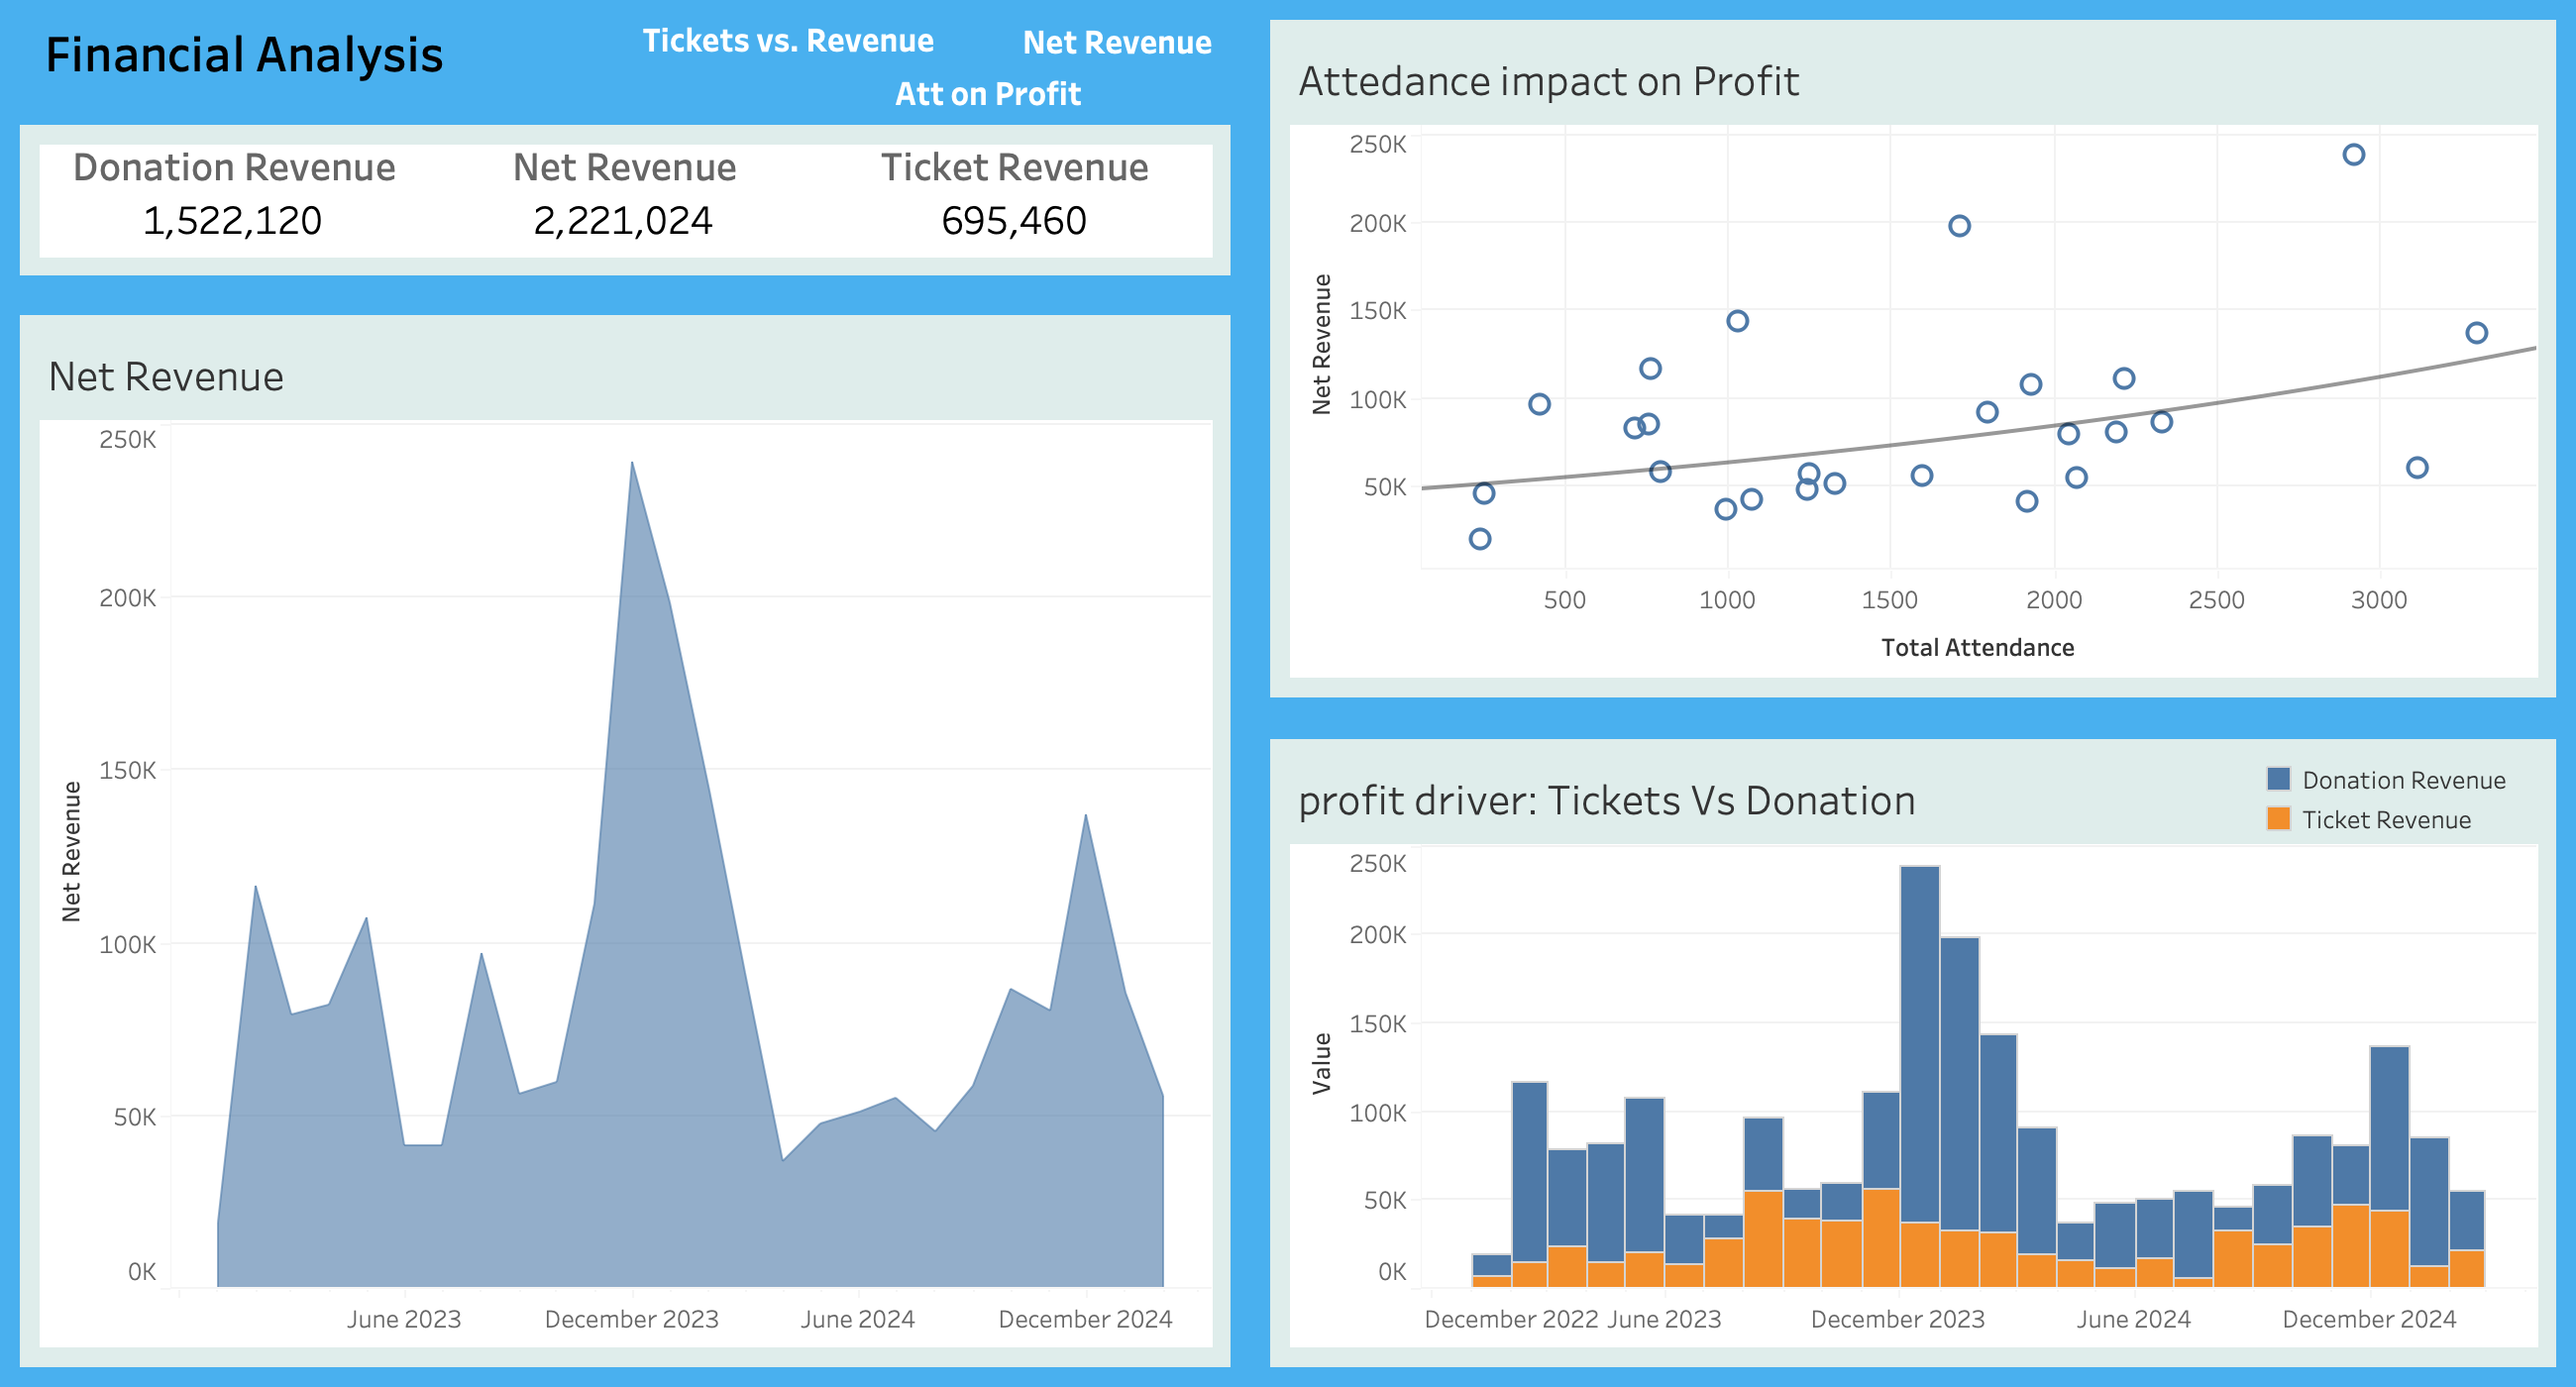

This screenshot's page, from the dashboard's own definition file:
{"tool":"tableau","page":{"name":"3_financial_health","canvas":[1300,700],"ordinal":2},"visuals":[{"type":"text","box":[0,0,631,53]},{"type":"worksheet","title":"Net Revenue and Attendance","mark":"Automatic","rows":["net_revenue"],"cols":["total_attendance"],"box":[631,0,669,362.5]},{"type":"dashboard-object","box":[303,4,190,32]},{"type":"dashboard-object","box":[489,4,150,34]},{"type":"dashboard-object","box":[419,33,160,27]},{"type":"worksheet","title":"KPIs finance","mark":"Automatic","box":[0,53,631,96]},{"type":"text","box":[720,62,441,89]},{"type":"text","box":[217,144,383,79]},{"type":"worksheet","title":"Net Revenue","mark":"Area","rows":["net_revenue"],"cols":["month_key"],"box":[0,149,631,551]},{"type":"worksheet","title":"profit driver: Tickets Vs Donation","mark":"Bar","cols":["month_key"],"box":[631,362.5,669,337.5]},{"type":"legend","title":"profit driver: Tickets Vs Donation","param":"[federated.1nh3dcc1yoborf1btznh20zu206y].[:Measure Names]","box":[1140,383,140,40]},{"type":"text","box":[506,478,441,62]}]}

Visuals, with their boxes in screenshot pixels (x1, y1, x2, y2), scaled from the page's 1300x700 canvas onto the 2576x1387 screenshot:
text: x1=0, y1=0, x2=1250, y2=105
"Net Revenue and Attendance" worksheet: x1=1250, y1=0, x2=2575, y2=718
dashboard-object: x1=600, y1=8, x2=977, y2=71
dashboard-object: x1=969, y1=8, x2=1266, y2=75
dashboard-object: x1=830, y1=65, x2=1147, y2=119
"KPIs finance" worksheet: x1=0, y1=105, x2=1250, y2=295
text: x1=1427, y1=123, x2=2301, y2=299
text: x1=430, y1=285, x2=1189, y2=442
"Net Revenue" worksheet (Area marks): x1=0, y1=295, x2=1250, y2=1386
"profit driver: Tickets Vs Donation" worksheet (Bar marks): x1=1250, y1=718, x2=2575, y2=1386
"profit driver: Tickets Vs Donation" legend: x1=2259, y1=759, x2=2536, y2=838
text: x1=1003, y1=947, x2=1877, y2=1070
